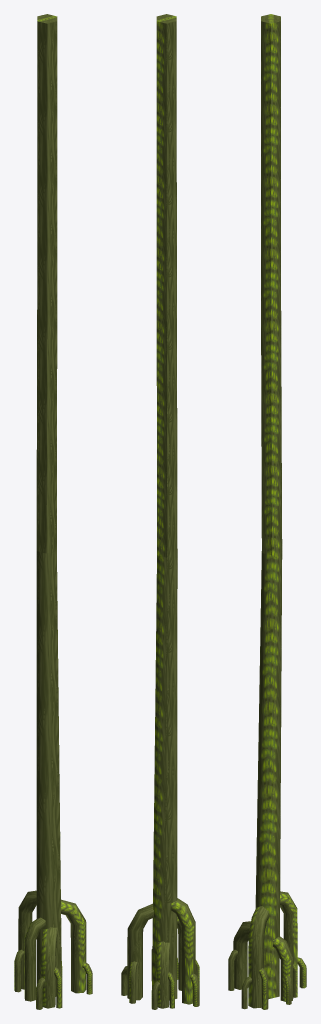
The model's file is tt_forest_tree_background_01.FBX.
The picture shows the model from 3 angles, left to right: view 1: azimuth 30°, elevation 25°; view 2: azimuth 210°, elevation 25°; view 3: azimuth 270°, elevation 25°; orthographic projection.
Visible parts, largest first — view 1: tree_003; view 2: tree_003; view 3: tree_003.
Part boxes in pixels (left/top/right/bottom): tree_003: left=14, top=14, right=92, bottom=1009; tree_003: left=121, top=14, right=199, bottom=1009; tree_003: left=228, top=14, right=306, bottom=1009.
Size of the model in its own units: 721 by 11000 by 800.
